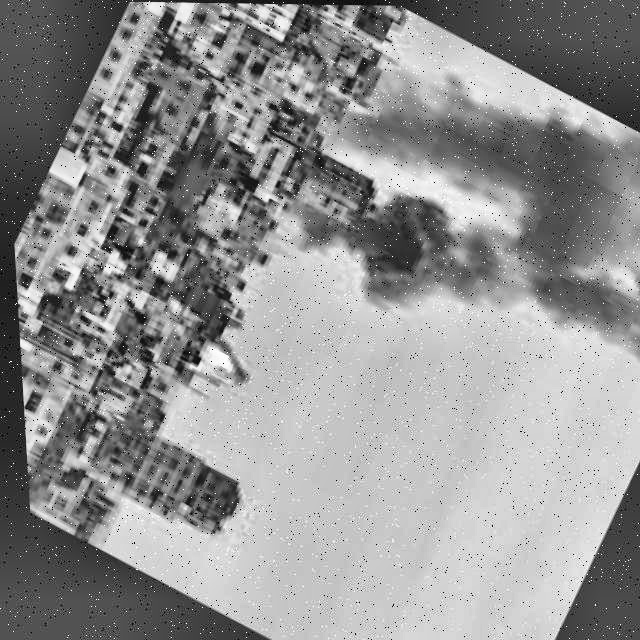Fire: (161, 327, 239, 397)
Smoke: (257, 3, 640, 429)
